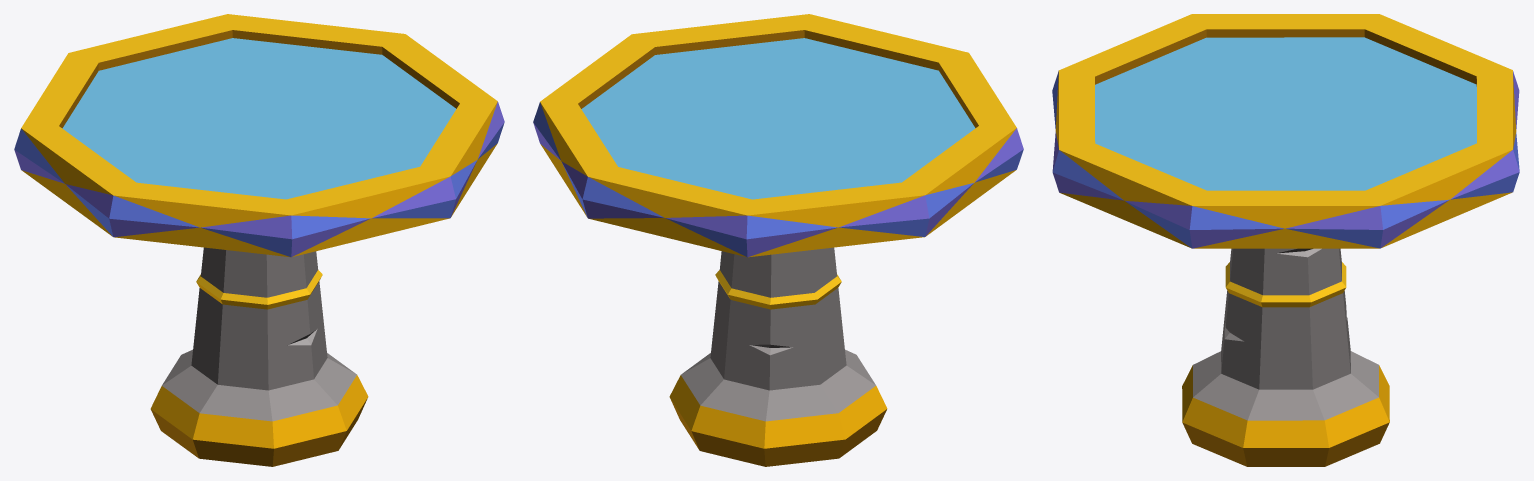
The model's file is Fountain_01.glb.
The picture shows the model from 3 angles, left to right: view 1: azimuth 30°, elevation 25°; view 2: azimuth 150°, elevation 25°; view 3: azimuth 270°, elevation 25°; orthographic projection. The views are drawn at different scales.
Visible parts, largest first — view 1: Fountain_01; view 2: Fountain_01; view 3: Fountain_01.
Part boxes in pixels (bbox=[...]): Fountain_01: bbox=[14, 14, 504, 466]; Fountain_01: bbox=[533, 14, 1023, 466]; Fountain_01: bbox=[1052, 14, 1519, 466].
Size of what is drawn, in the model's own units: 1.2 by 0.8983 by 1.2.
Materials: 1 (1 with a texture image).
